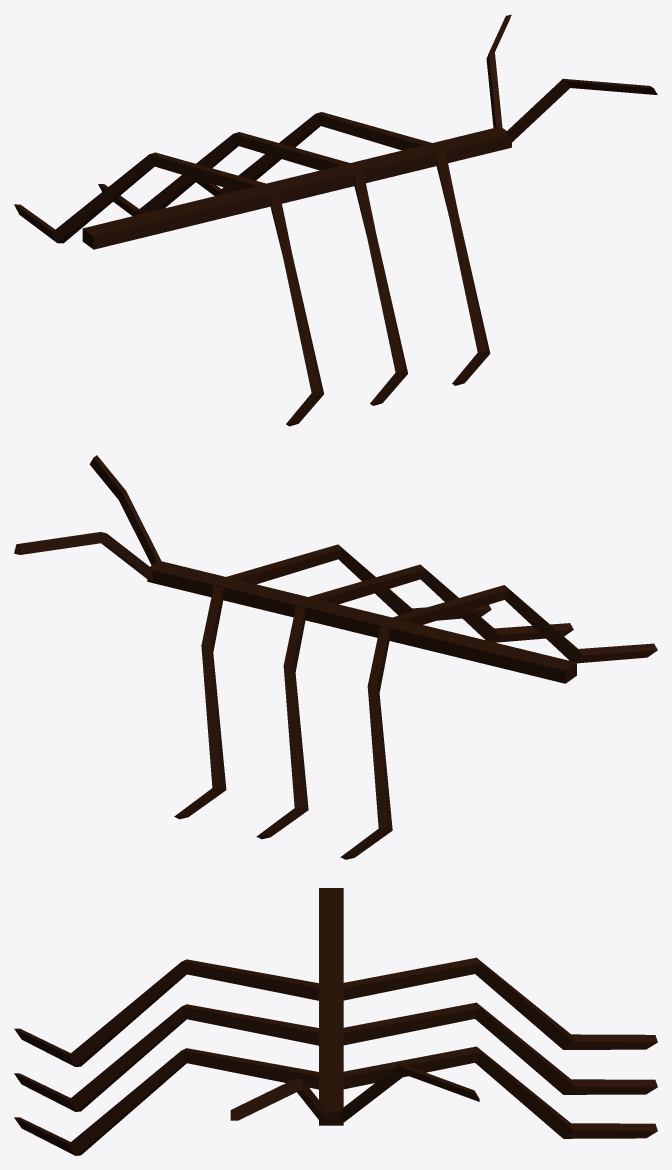
File: coloured_stick_bug_.fbx
The picture shows the model from 3 angles, top to bottom: view 1: azimuth 30°, elevation 25°; view 2: azimuth 150°, elevation 25°; view 3: azimuth 270°, elevation 25°; orthographic projection. The views are drawn at different scales.
Visible parts, largest first — view 1: Cube.001; view 2: Cube.001; view 3: Cube.001.
Boxes of the visible parts, x1,y1,x2,y2 form: Cube.001: (14,14,657,426); Cube.001: (14,455,657,859); Cube.001: (14,888,657,1155).
Bounding box in the file's own units: 665 × 193 × 647.
